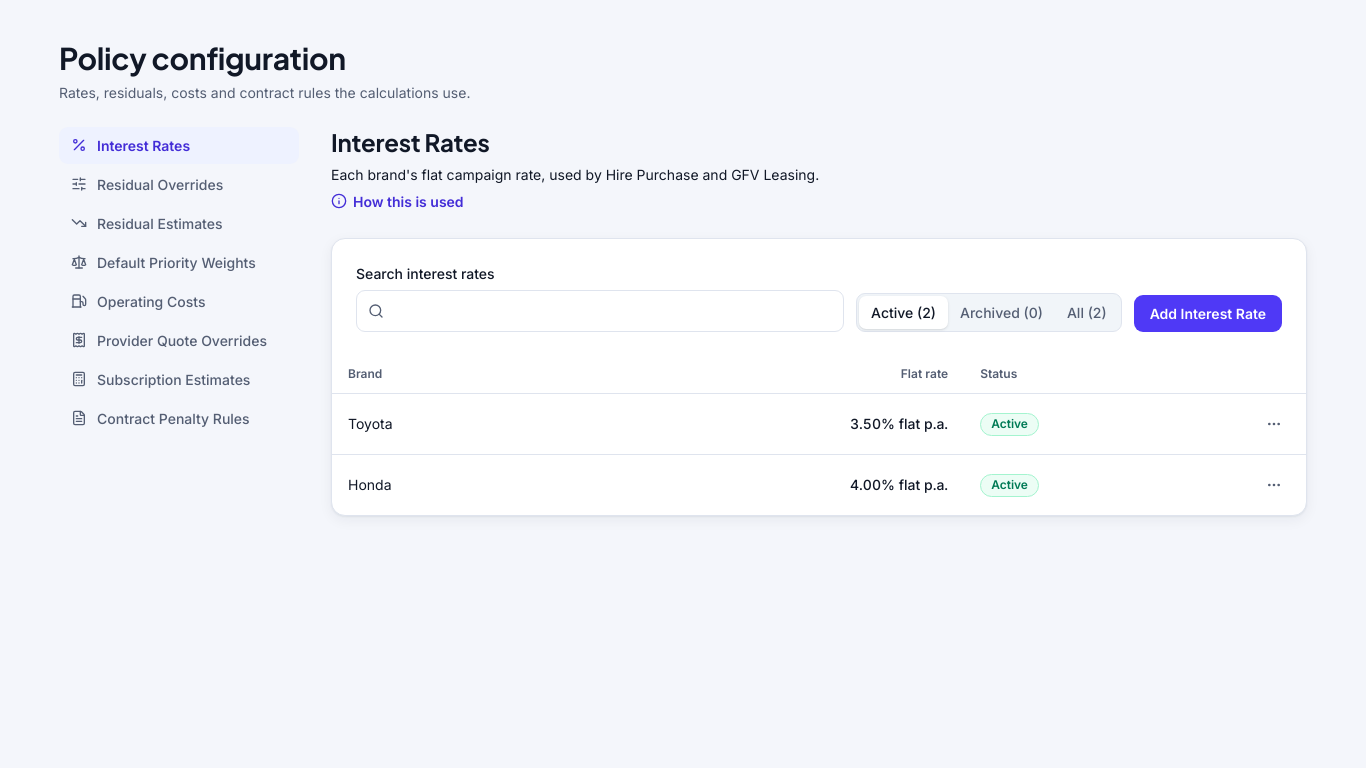
Test: AdminPolicyPage › still offers an edited Interest Rate's own brand after it was archived
Expected: the text "3.50% flat p.a." is shown, [566,394,964,454]
# Redesign UI-6a: Edit is in the row's menu.
Click the button named "Actions for Honda". click: [1274, 485]
box: [1258,469,1290,501]
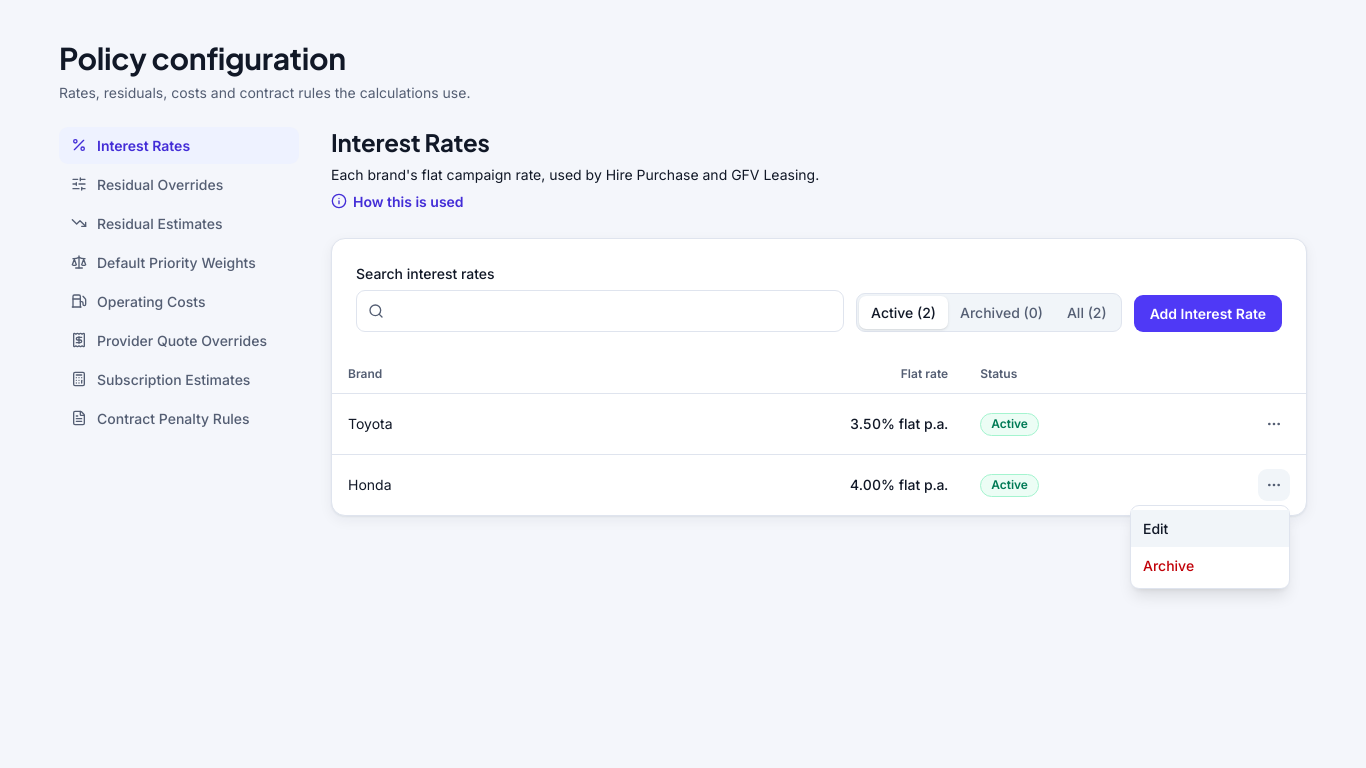
Click the menu item "Edit". click: [1210, 528]
box: [1131,510,1289,547]
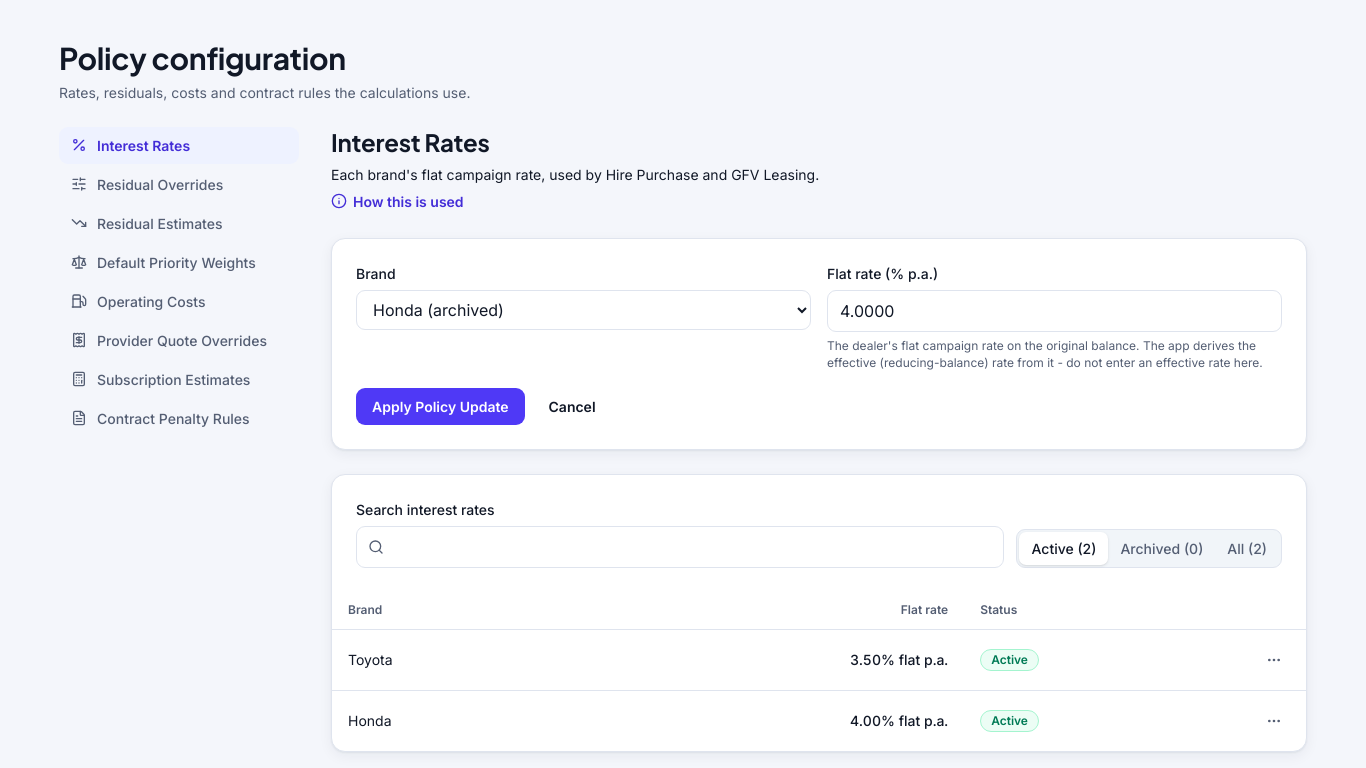
Expected: the cell "Toyota" is shown, [332,629,566,690]
Expected: the dropdown labelled "Brand" shows "Honda (archived)", [356,290,811,330]
